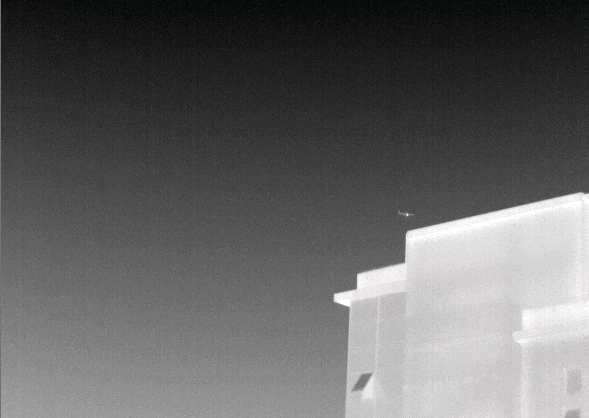dim target: (396, 208, 416, 219)
